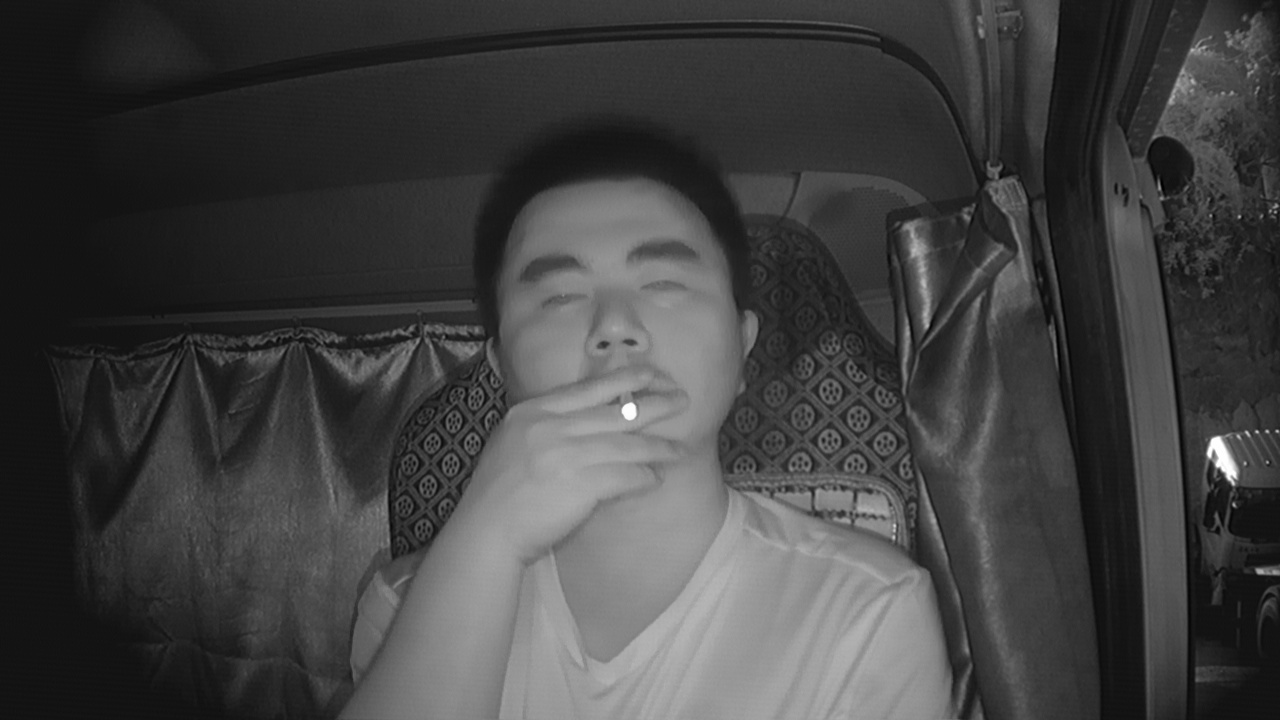hand: (489, 365, 692, 526)
